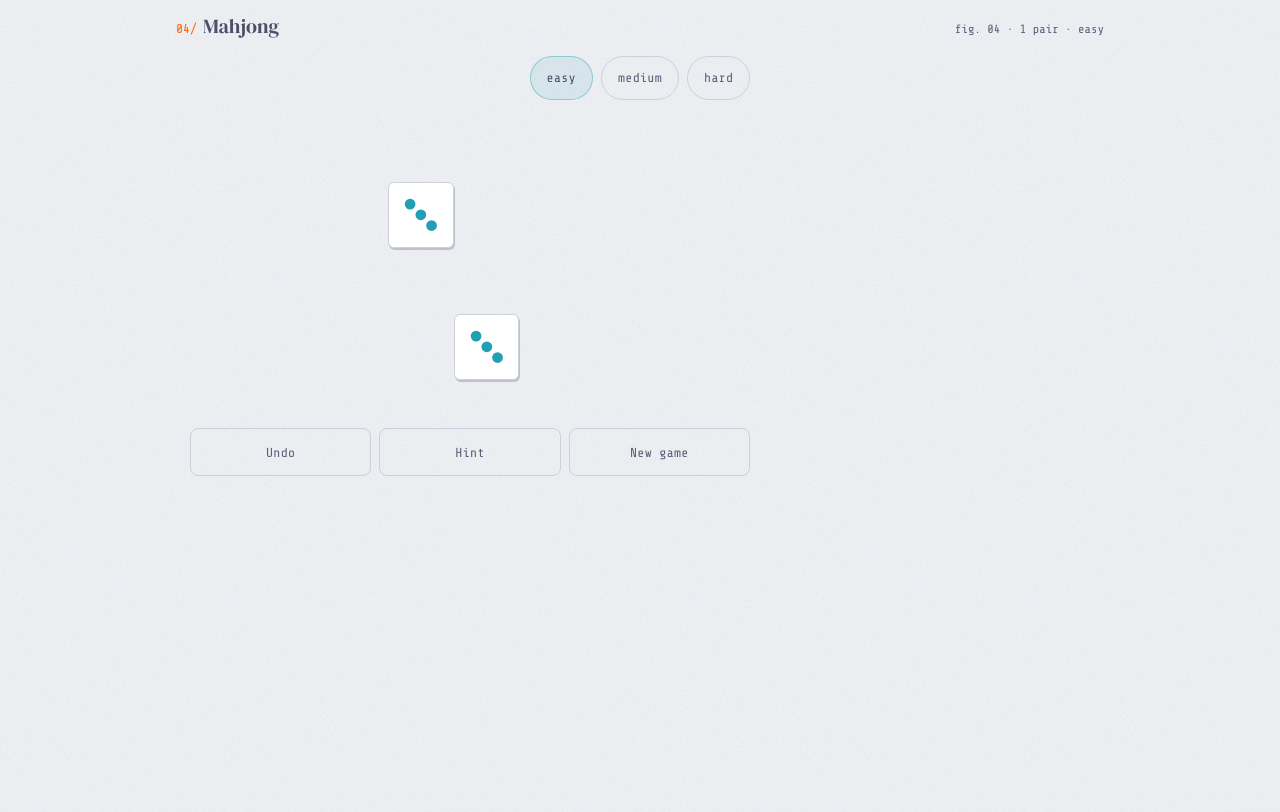
Test: clearing the last pair live shows Board cleared with confetti; resume-of-cleared has no confetti
This screenshot has width=1280, height=812.
Click the button named "Three of dots, row 4, column 5, layer 1": coordinates (486, 347) top-left (454, 314), bottom-right (519, 380)
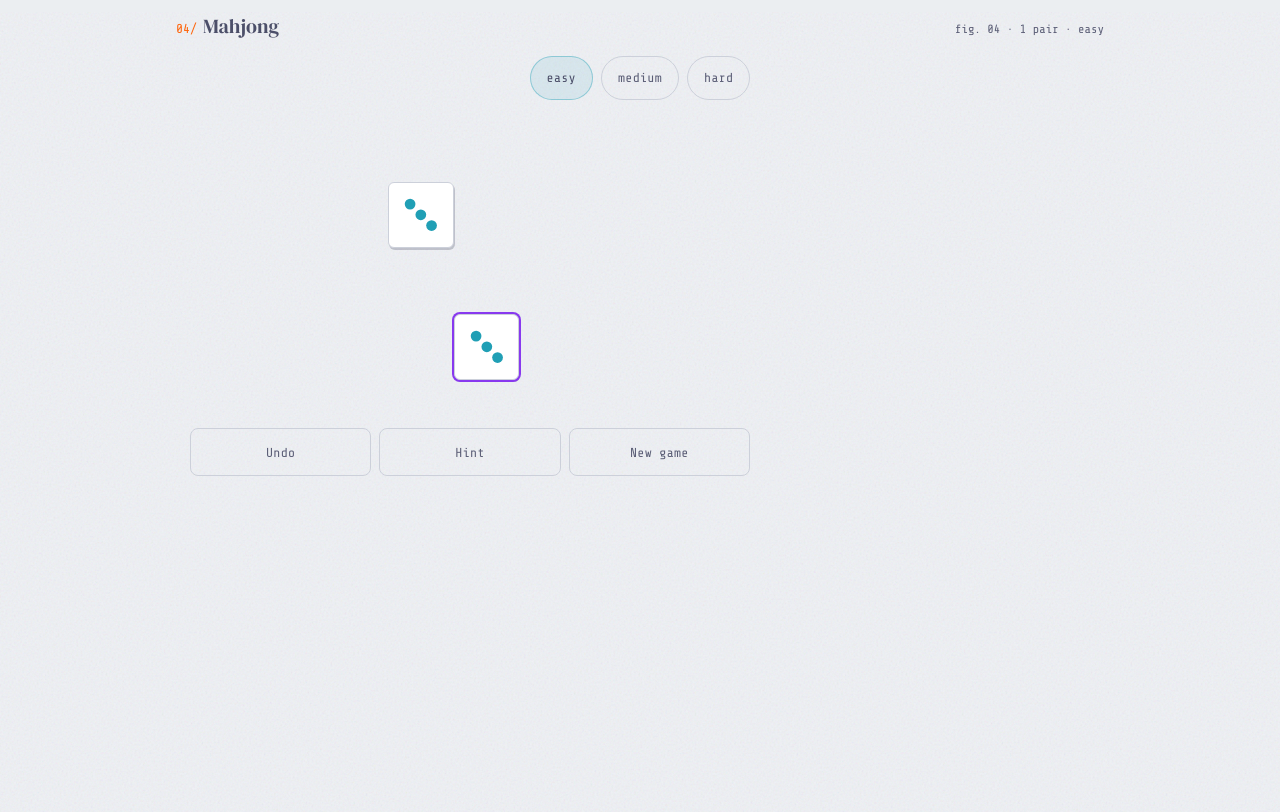
Click the button named "Three of dots, row 2, column 4, layer 1": coordinates (421, 215) top-left (388, 182), bottom-right (454, 248)
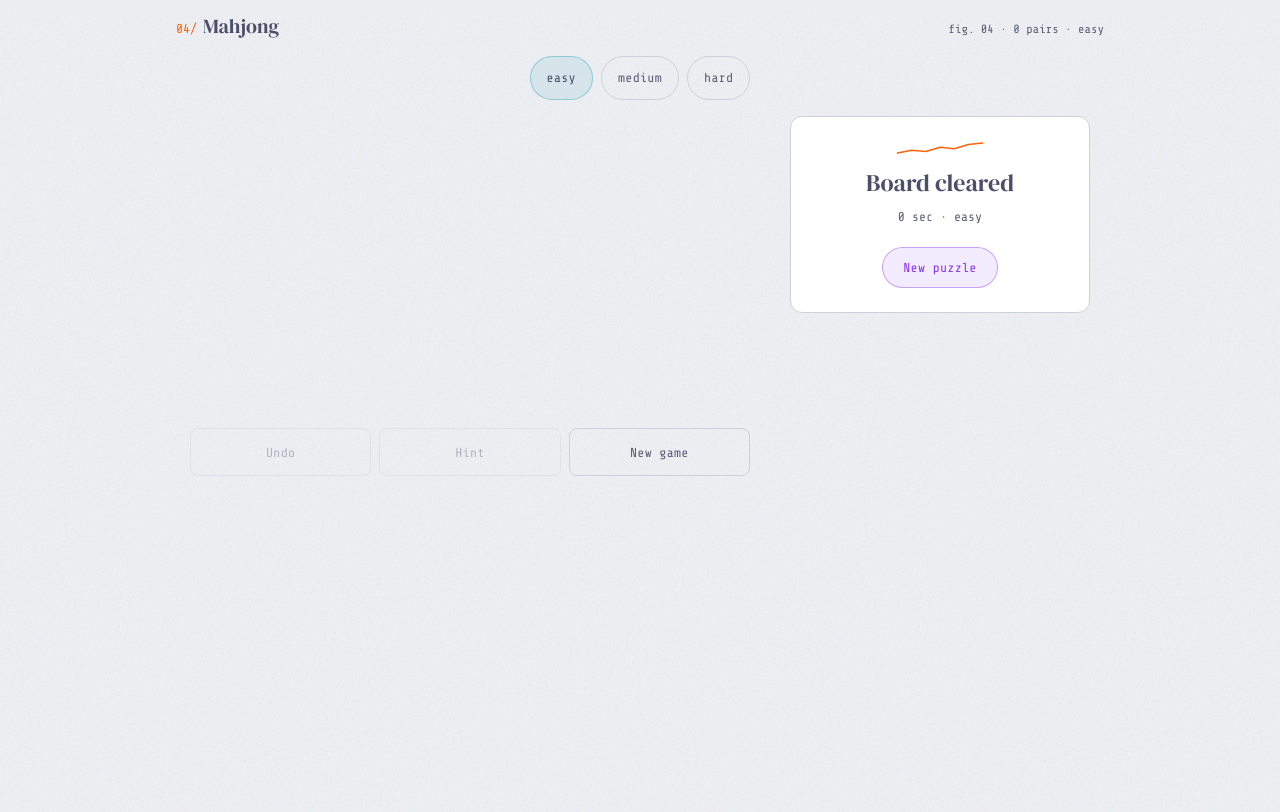
Expected: the heading "Board cleared" is shown, top-left (866, 166), bottom-right (1014, 199)
Expected: the drawing is shown
